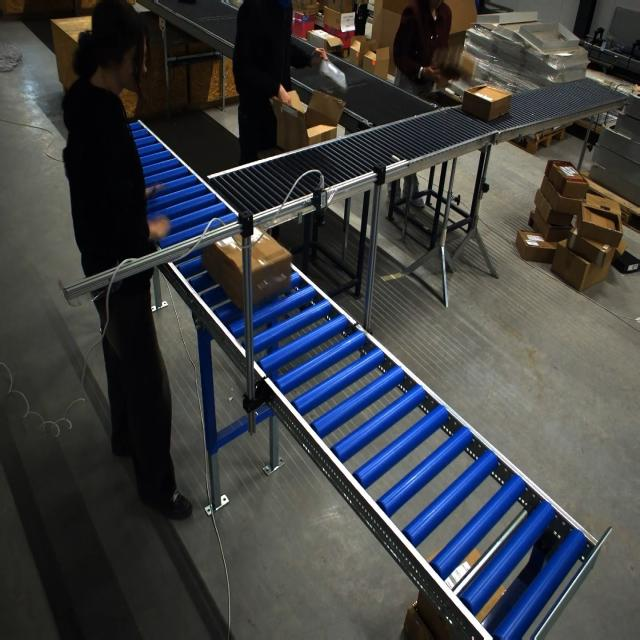box: (203, 228, 294, 312), (279, 88, 336, 150), (518, 20, 582, 54), (461, 83, 513, 122)
product: (320, 57, 347, 93)
